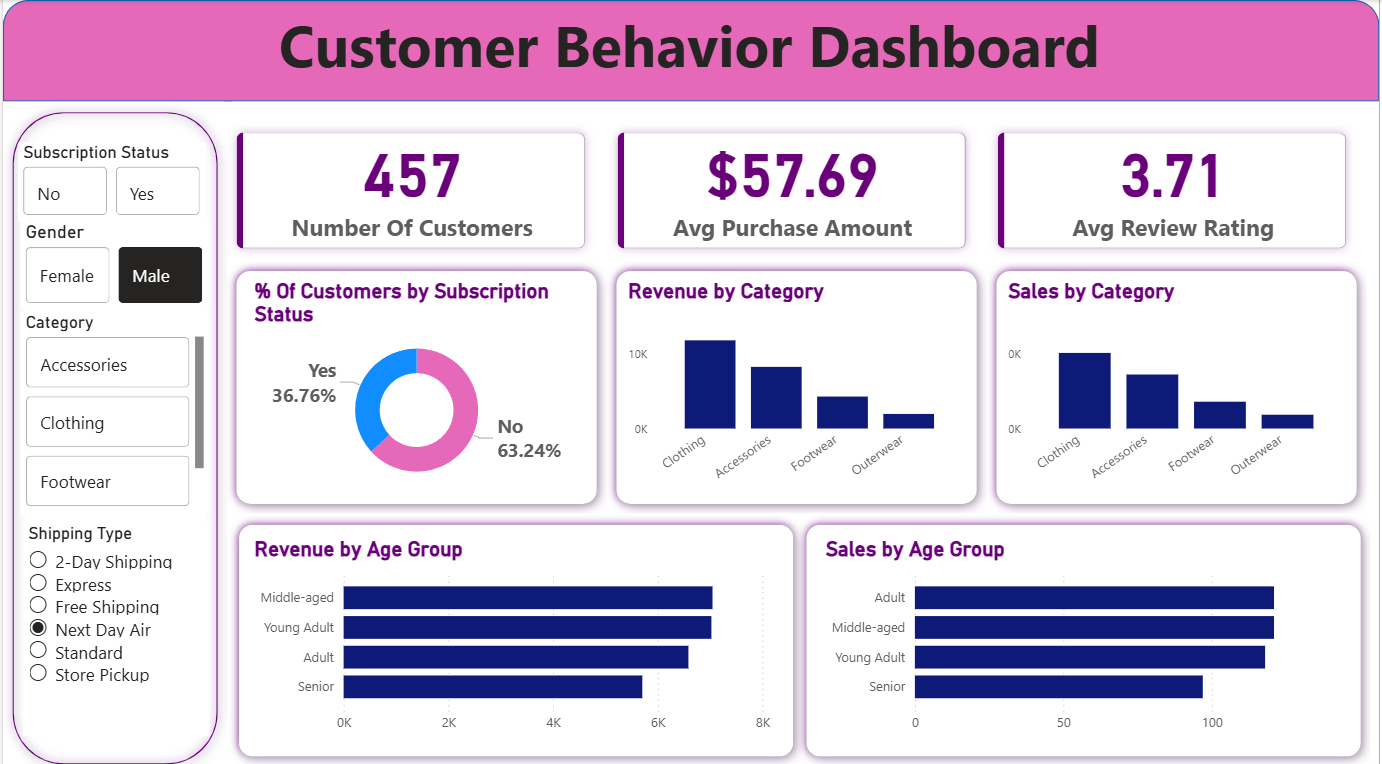

What the dashboard file says about the page in this screenshot:
{"tool":"powerbi","page":{"name":"Page 1","canvas":[1280,720],"ordinal":0},"visuals":[{"type":"cardVisual","fields":{"Data":["customer.Number Of Customers","customer.Avg Purchase Amount","customer.Avg Review Rating"]},"box":[189.7,94.8,1090.6,164.8],"z":0},{"type":"shape","box":[0,0,1280.3,94.4],"z":1000},{"type":"textbox","box":[14.6,0,1247,94.4],"z":2000},{"type":"shape","box":[208.6,243,353.3,234.7],"z":3000},{"type":"donutChart","title":"% Of Customers by Subscription Status","fields":{"Category":["customer.subscription_status"],"Y":["CountNonNull(customer.customer_id)"]},"box":[228.8,259.6,311.8,201.5],"z":4000},{"type":"shape","box":[561.9,243,353.3,234.7],"z":5000},{"type":"shape","box":[915.1,243,353.3,234.7],"z":6000},{"type":"clusteredColumnChart","title":"Revenue by Category","fields":{"Y":["Sum(customer.purchase_amount)"],"Category":["customer.category"]},"box":[577.3,259.6,321.2,201.5],"z":7000},{"type":"clusteredColumnChart","title":"Sales by Category","fields":{"Y":["CountNonNull(customer.customer_id)"],"Category":["customer.category"]},"box":[930.5,259.6,321.2,201.5],"z":8000},{"type":"shape","box":[0,94.8,208.6,624.7],"z":9000},{"type":"advancedSlicerVisual","fields":{"Values":["customer.subscription_status"]},"box":[14.2,132.8,175.4,73.5],"z":10000},{"type":"advancedSlicerVisual","fields":{"Values":["customer.gender"]},"box":[16.3,205.8,175.6,81.4],"z":11000},{"type":"advancedSlicerVisual","fields":{"Values":["customer.category"]},"box":[16.3,290.7,175.6,187.2],"z":12000},{"type":"listSlicer","fields":{"Values":["customer.shipping_type"]},"box":[18.6,487.2,173.3,197.7],"z":13000},{"type":"shape","box":[210.5,479.1,533.7,233.7],"z":15000},{"type":"shape","box":[738.4,479.1,533.7,233.7],"z":16000},{"type":"clusteredBarChart","title":"Sales by Age Group","fields":{"Category":["customer.age_group"],"Y":["CountNonNull(customer.customer_id)"]},"box":[760.5,500,489.5,190.7],"z":17000},{"type":"clusteredBarChart","title":"Revenue by Age Group","fields":{"Y":["Sum(customer.purchase_amount)"],"Category":["customer.age_group"]},"box":[229.1,500,489.5,190.7],"z":17500}]}

Visuals, with their boxes in screenshot pixels (x1, y1, x2, y2), scaled from the page's 1280x720 canvas onto the 1382x764 screenshot:
cardVisual - customer.Number Of Customers x customer.Avg Purchase Amount: Rect(205, 101, 1381, 275)
shape: Rect(0, 0, 1381, 100)
textbox: Rect(16, 0, 1362, 100)
shape: Rect(225, 258, 607, 507)
"% Of Customers by Subscription Status" donutChart: Rect(247, 275, 584, 489)
shape: Rect(607, 258, 988, 507)
shape: Rect(988, 258, 1369, 507)
"Revenue by Category" clusteredColumnChart: Rect(623, 275, 970, 489)
"Sales by Category" clusteredColumnChart: Rect(1005, 275, 1351, 489)
shape: Rect(0, 101, 225, 763)
advancedSlicerVisual - customer.subscription_status: Rect(15, 141, 205, 219)
advancedSlicerVisual - customer.gender: Rect(18, 218, 207, 305)
advancedSlicerVisual - customer.category: Rect(18, 308, 207, 507)
listSlicer - customer.shipping_type: Rect(20, 517, 207, 727)
shape: Rect(227, 508, 804, 756)
shape: Rect(797, 508, 1373, 756)
"Sales by Age Group" clusteredBarChart: Rect(821, 531, 1350, 733)
"Revenue by Age Group" clusteredBarChart: Rect(247, 531, 776, 733)
